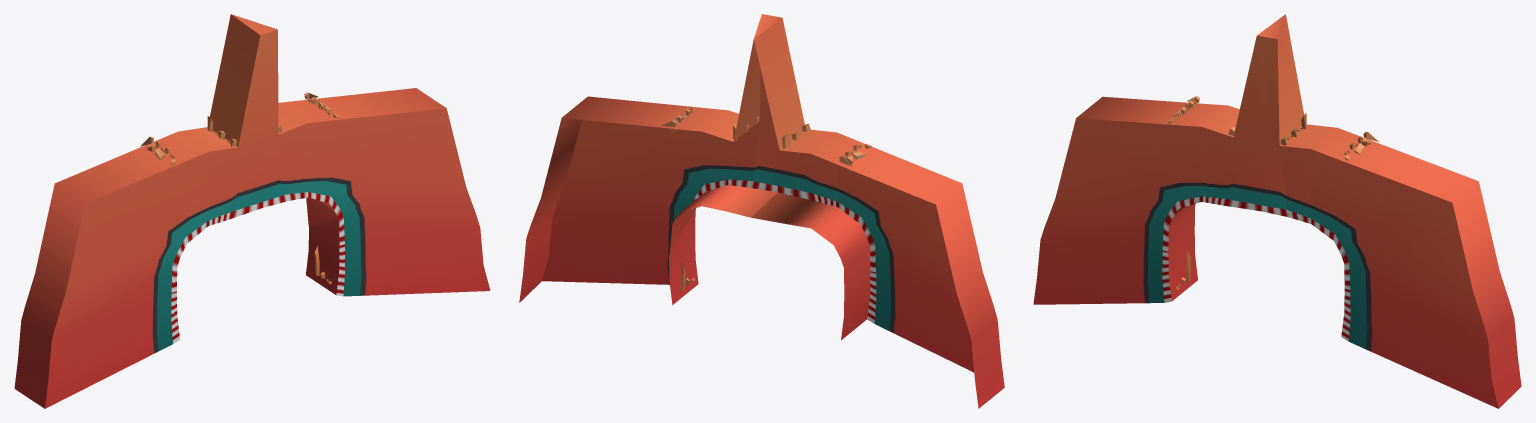
The model's file is gate_city_01.fbx.
3 views of the same model, side by side, from view 1: azimuth 30°, elevation 25°; view 2: azimuth 150°, elevation 25°; view 3: azimuth 330°, elevation 25° (orthographic).
Visible parts, largest first — view 1: gate2; view 2: gate2; view 3: gate2.
Boxes of the visible parts, x1,y1,x2,y2 form: gate2: (14, 14, 490, 408); gate2: (519, 14, 1004, 408); gate2: (1033, 14, 1521, 408).
Size of the model in its own units: 748 by 499 by 104.
